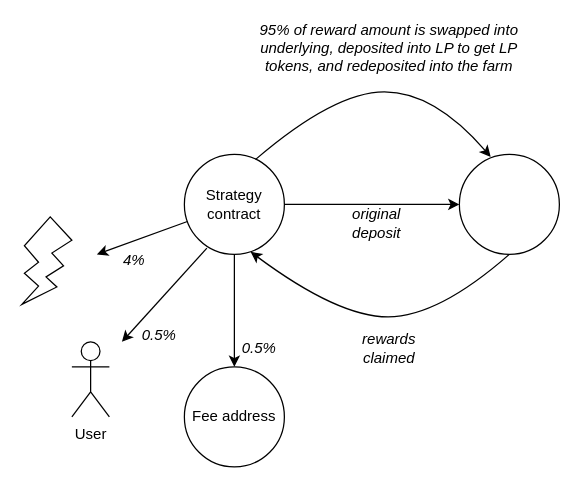
Some shapes in this 581 by 489 pixel diagram are drawn without their labels. The shapes that lost their labels are listed below. From the top down, each one's box as (x1, y1, x2, y2) in pixels, then its label:
(458, 153, 559, 254): External Yield Farm
(21, 216, 72, 304): Burnt
